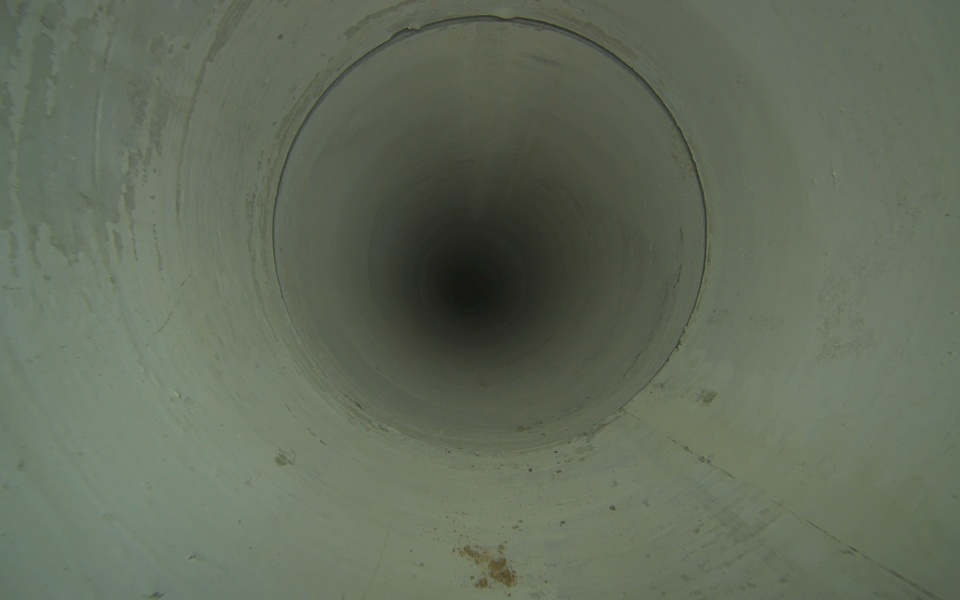circle1: (268, 12, 714, 455)
circle2: (449, 267, 496, 310)
